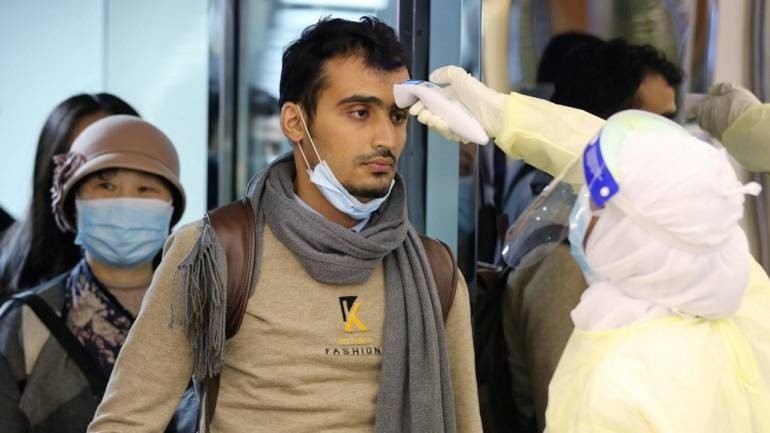face_with_mask: (502, 108, 746, 318), (274, 22, 412, 218), (47, 111, 187, 270)
